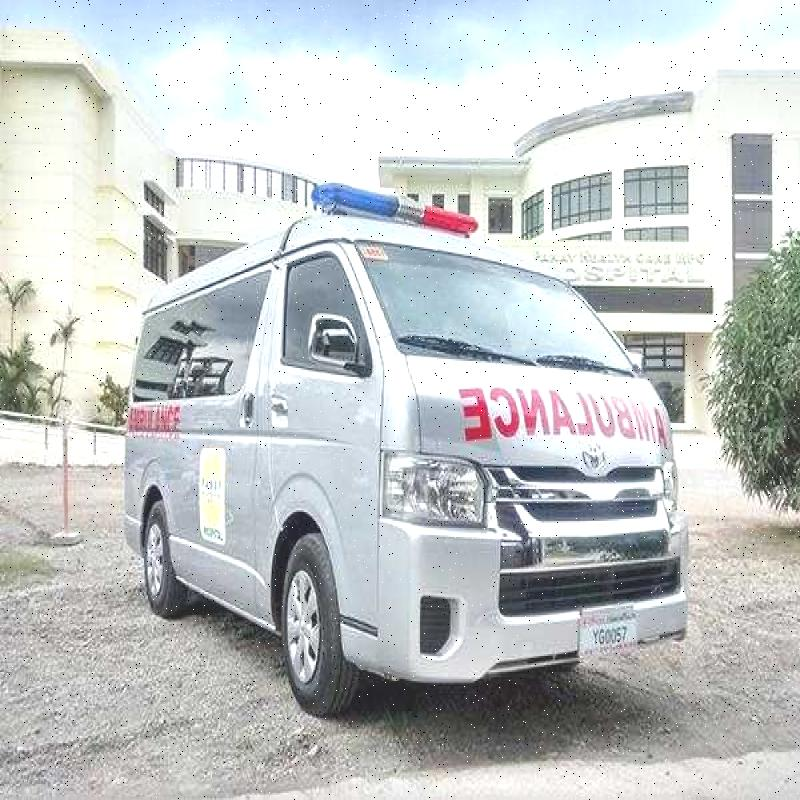AmbulanceSiren: (300, 164, 484, 244)
